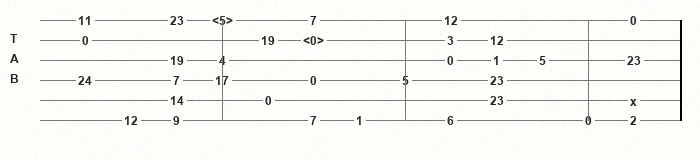0: (82, 34, 93, 47), (265, 94, 276, 107), (310, 74, 321, 87), (447, 54, 458, 67), (585, 114, 596, 127), (630, 14, 641, 27)
1: (356, 114, 367, 127), (493, 54, 504, 67)
11: (78, 14, 96, 27)
12: (124, 114, 142, 127), (444, 14, 462, 27), (490, 34, 508, 47)
14: (170, 94, 188, 107)
17: (215, 74, 233, 87)
19: (170, 54, 188, 67), (261, 34, 279, 47)
2: (630, 114, 641, 127)
23: (170, 14, 188, 27), (490, 74, 508, 87), (490, 94, 508, 107), (627, 54, 645, 67)
24: (78, 74, 96, 87)
3: (447, 34, 458, 47)
4: (219, 54, 230, 67)
5: (402, 74, 413, 87), (539, 54, 550, 67)
6: (447, 114, 458, 127)
7: (173, 74, 184, 87), (310, 14, 321, 27), (310, 114, 321, 127)
9: (173, 114, 184, 127)
harmonic: (212, 14, 237, 27), (303, 34, 328, 47)
x: (630, 95, 641, 106)
